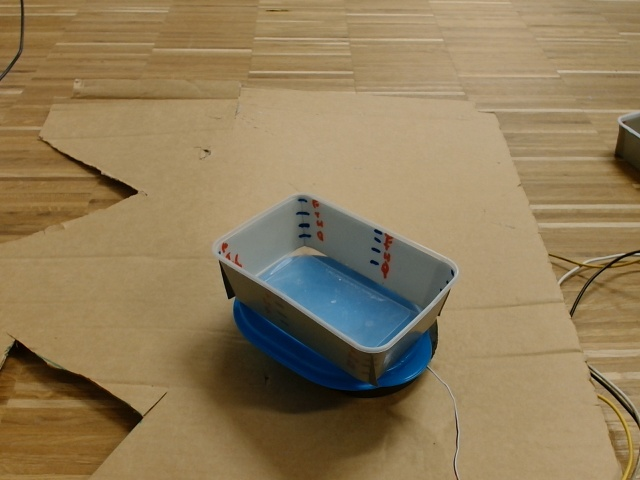Small_zero: (212, 192, 462, 358)
